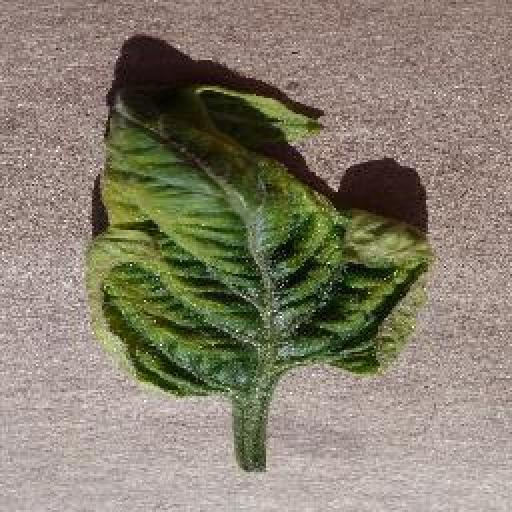disease_tomato: (78, 71, 436, 404)
